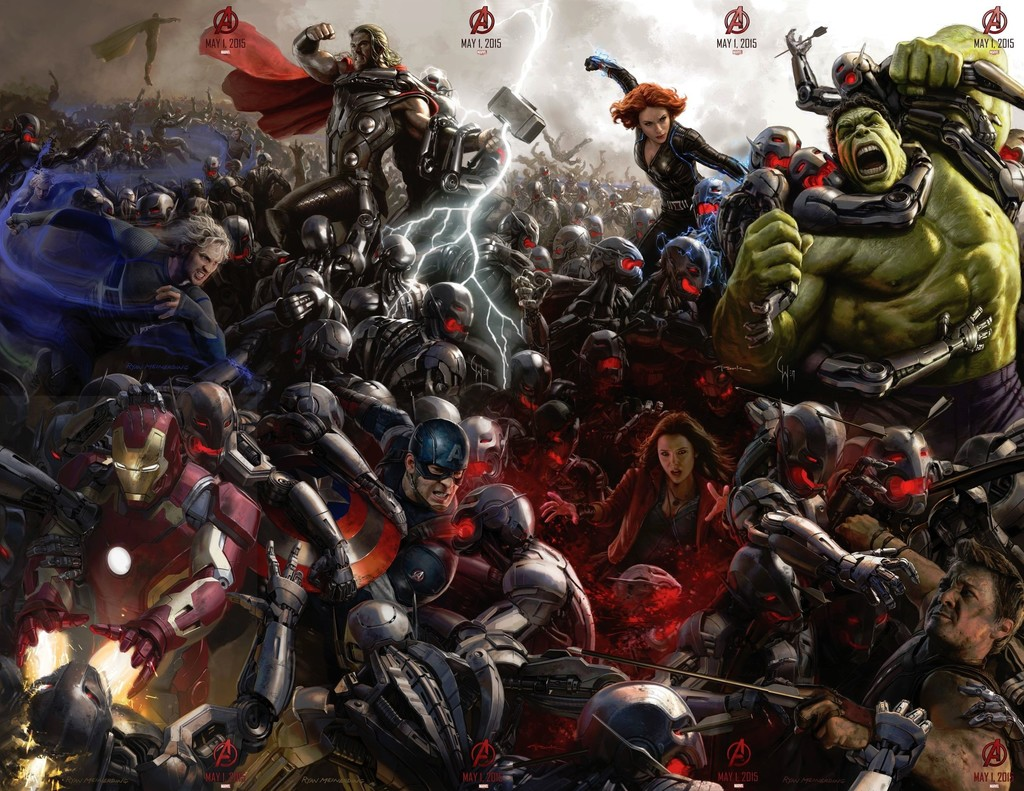Person: (0, 12, 1023, 790)
